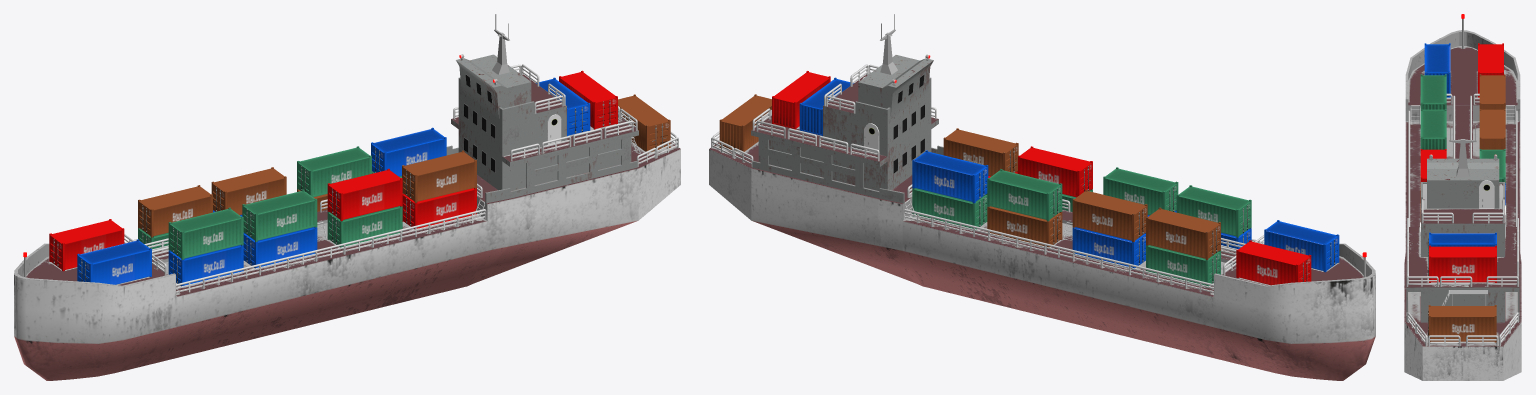
The model's file is small_cargo_ship.glb.
3 views of the same model, side by side, from view 1: azimuth 30°, elevation 25°; view 2: azimuth 150°, elevation 25°; view 3: azimuth 270°, elevation 25° (orthographic). The views are drawn at different scales.
Visible parts, largest first — view 1: polySurface2268, polySurface2207, polySurface2081, polySurface1965, polySurface1987, polySurface2117, polySurface2215, polySurface2336, polySurface2270, polySurface2021, polySurface2138, polySurface2347 (+8 smaller); view 2: polySurface2268, polySurface2207, polySurface2138, polySurface2021, polySurface2270, polySurface2106, polySurface2216, polySurface2347, polySurface2081, polySurface1965, polySurface2336, polySurface1987 (+8 smaller); view 3: polySurface2268, polySurface2207, polySurface2322, polySurface2311, polySurface2106, polySurface1987, polySurface2336, polySurface2300, polySurface2270, polySurface2081, polySurface2347, polySurface2208 (+19 smaller).
Boxes of the visible parts, x1,y1,x2,y2 form: polySurface2268: [14, 142, 680, 380]; polySurface2207: [451, 54, 638, 190]; polySurface2081: [168, 207, 243, 259]; polySurface1965: [327, 168, 402, 221]; polySurface1987: [242, 189, 317, 241]; polySurface2117: [402, 150, 476, 202]; polySurface2215: [485, 137, 637, 203]; polySurface2336: [77, 239, 151, 284]; polySurface2270: [138, 185, 212, 237]; polySurface2021: [297, 146, 371, 197]; polySurface2138: [371, 127, 446, 176]; polySurface2347: [49, 219, 124, 271]; polySurface2268: [709, 141, 1375, 380]; polySurface2207: [751, 55, 938, 190]; polySurface2138: [912, 150, 988, 203]; polySurface2021: [987, 169, 1062, 221]; polySurface2270: [1146, 207, 1220, 259]; polySurface2106: [1072, 189, 1147, 241]; polySurface2216: [752, 137, 904, 203]; polySurface2347: [1236, 240, 1311, 285]; polySurface2081: [1176, 185, 1251, 237]; polySurface1965: [1018, 146, 1092, 197]; polySurface2336: [1264, 220, 1339, 272]; polySurface1987: [1103, 167, 1178, 215]; polySurface2268: [1404, 30, 1521, 380]; polySurface2207: [1406, 158, 1519, 322]; polySurface2322: [1429, 245, 1496, 282]; polySurface2311: [1428, 305, 1496, 342]; polySurface2106: [1479, 109, 1505, 149]; polySurface1987: [1420, 109, 1446, 149]; polySurface2336: [1424, 43, 1450, 97]; polySurface2300: [1429, 232, 1496, 246]; polySurface2270: [1479, 74, 1505, 109]; polySurface2081: [1420, 74, 1446, 109]; polySurface2347: [1478, 43, 1503, 97]; polySurface2208: [1455, 105, 1472, 158].
Bounding box in the file's own units: 2 × 0.7404 × 0.3277.
1 material, 1 textured.
